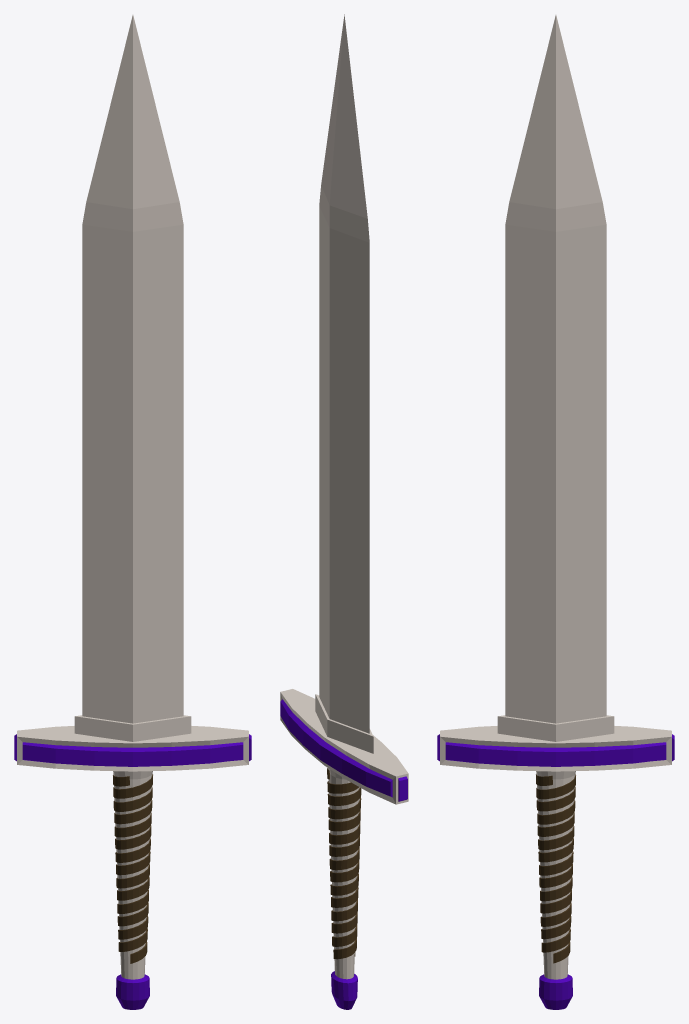
File: miekka.fbx
3 views of the same model, side by side, from view 1: azimuth 90°, elevation 25°; view 2: azimuth 210°, elevation 25°; view 3: azimuth 270°, elevation 25° (orthographic).
Parts seen in each view (by area): view 1: Cube.001; view 2: Cube.001; view 3: Cube.001.
Boxes of the visible parts, bbox=[...] form: Cube.001: bbox=[14, 15, 251, 1009]; Cube.001: bbox=[280, 14, 408, 1009]; Cube.001: bbox=[437, 15, 674, 1009].
Bounding box in the file's own units: 6.19 × 121 × 26.26.
